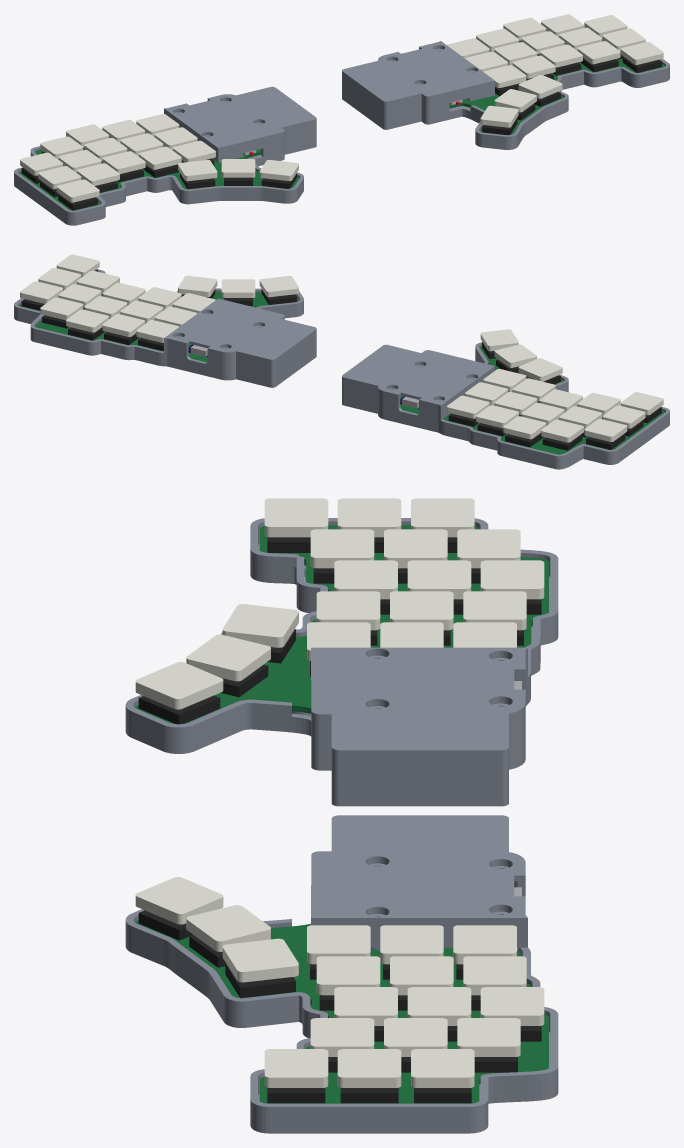
File: assembly_closed.glb
3 views of the same model, one above another, from view 1: azimuth 30°, elevation 25°; view 2: azimuth 150°, elevation 25°; view 3: azimuth 270°, elevation 25° (orthographic). The views are drawn at different scales.
Size of the model in its own units: 0.3616 by 0.0161 by 0.1122.
